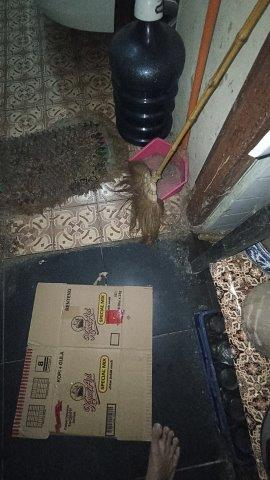kardus: (14, 285, 152, 440)
